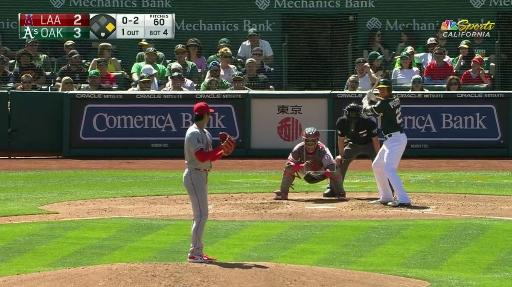pitcher: (183, 102, 236, 263)
